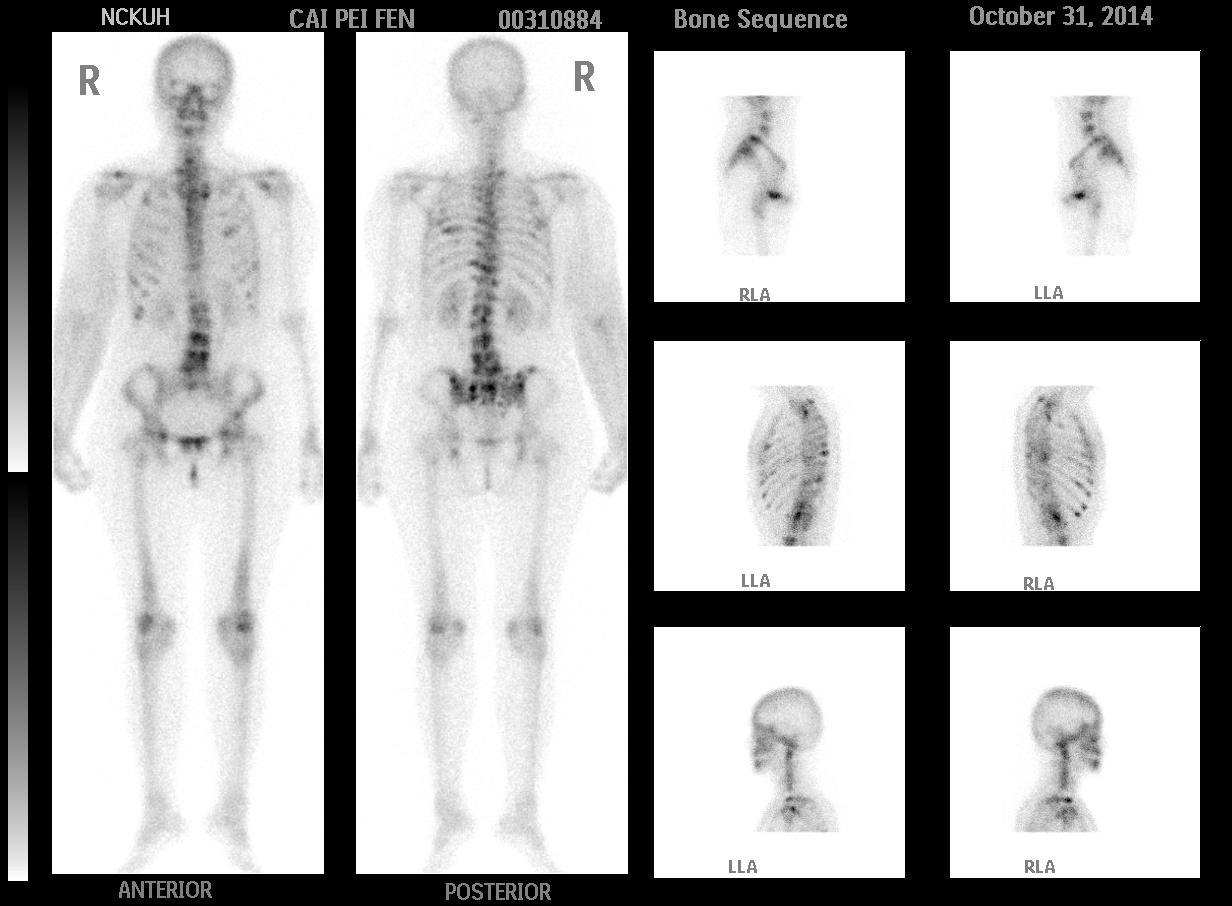person: (51, 31, 630, 876)
